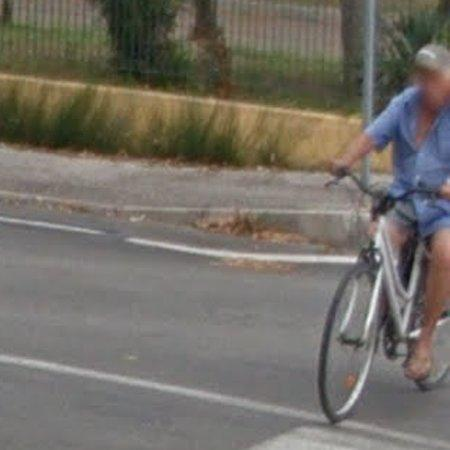bicycles: (319, 173, 429, 424), (418, 317, 450, 391)
